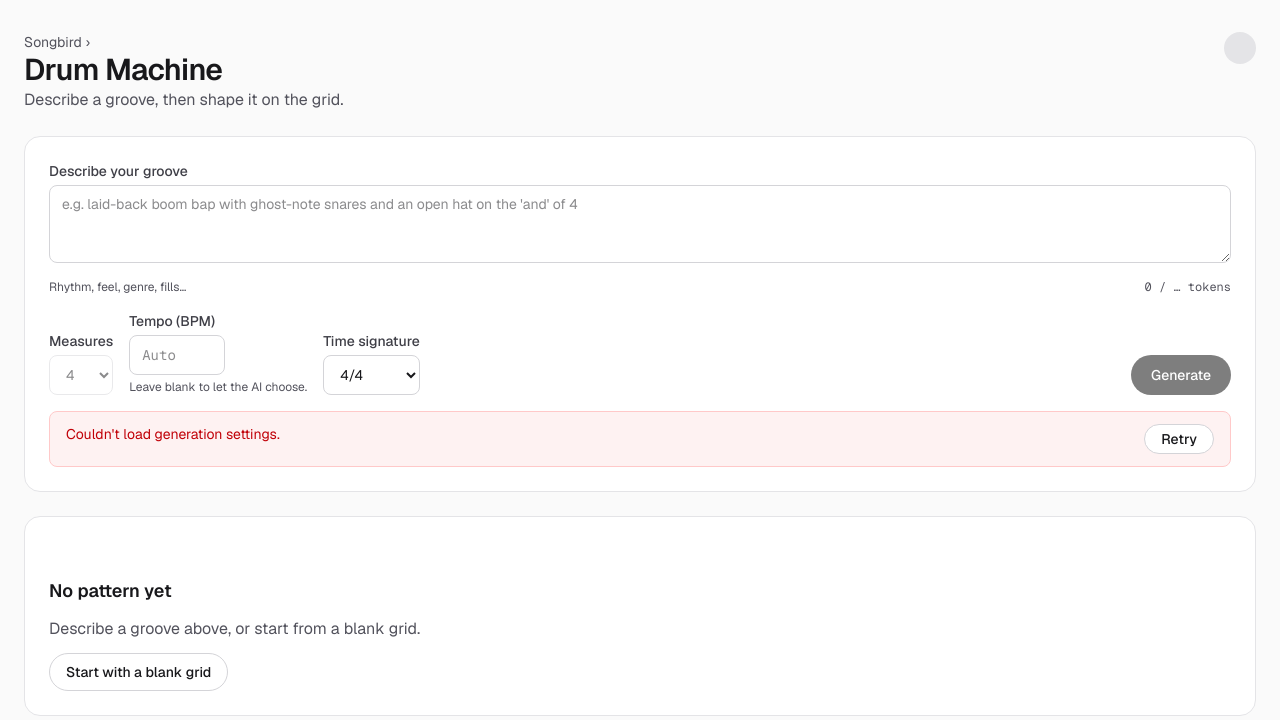
Scenario: prompt form › offers a retry when limits fail to load
expect the text "Couldn't load generation settings." is shown: met, box [66,425,280,443]
expect the button "Generate" is disabled: met, box [1131,355,1231,395]
Click the button "Retry": point(1179, 439) [1144,424,1214,454]
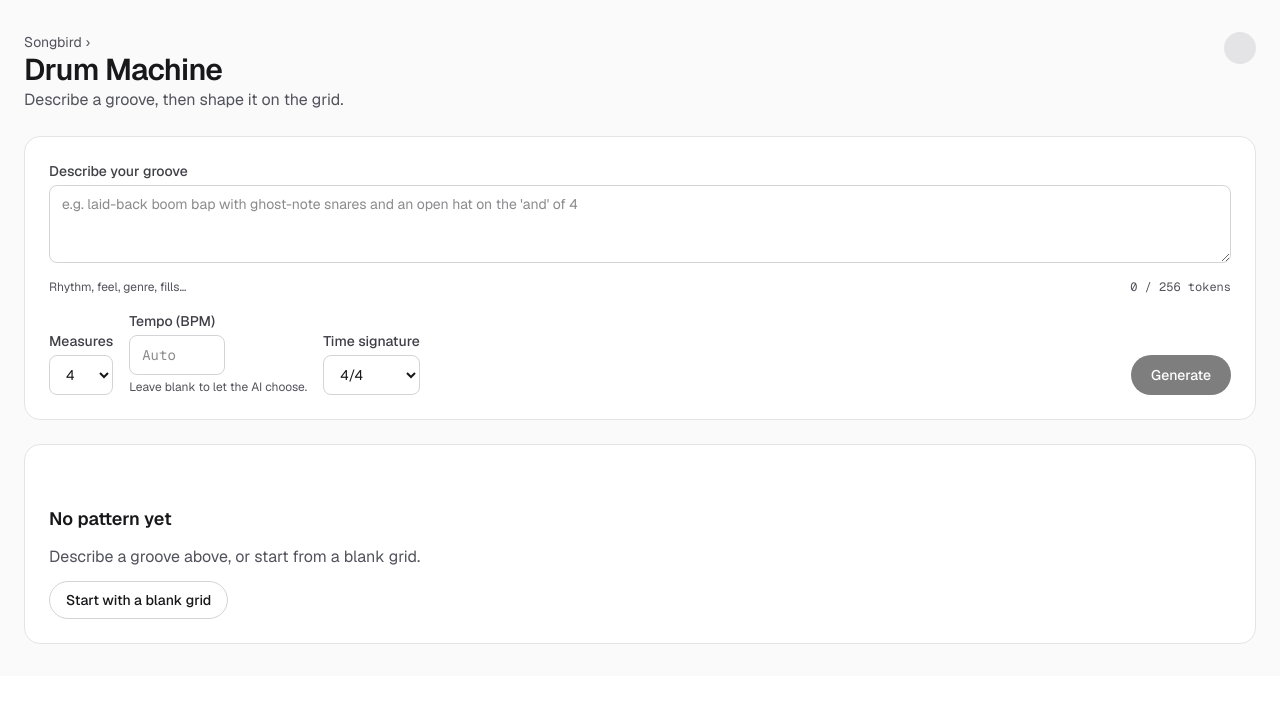
expect the dropdown labelled "Measures" is enabled: met, box [49,355,113,395]
